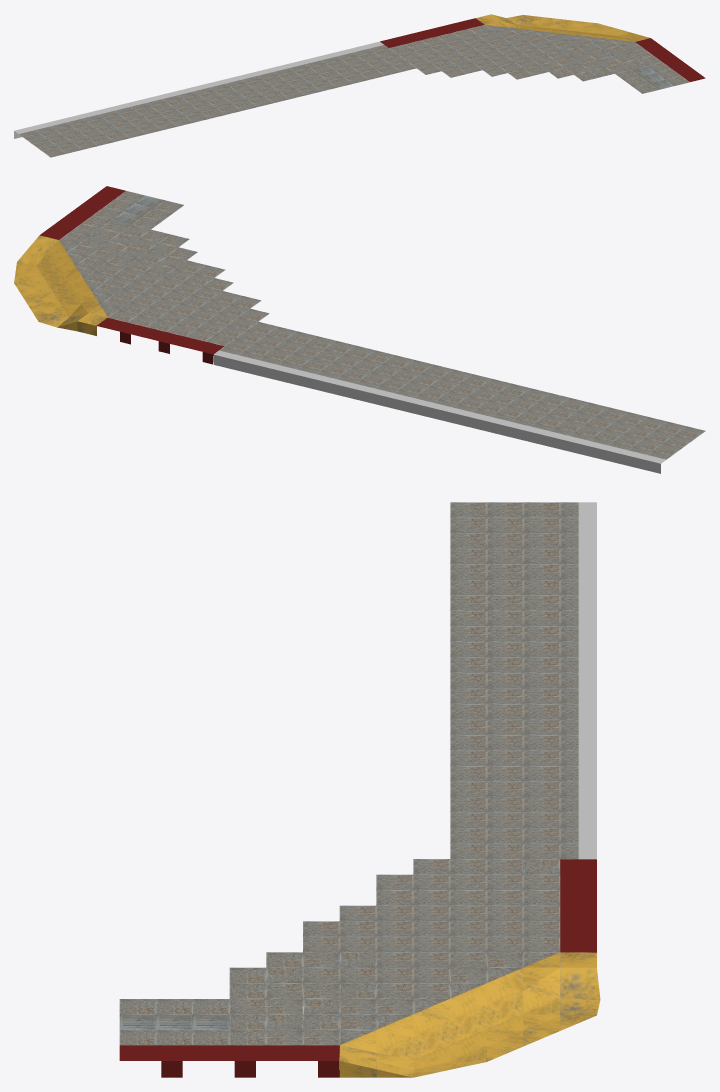
File: SideWalker_Plaza_MarceloTAlberar_esqAchaval.fbx
3 renders of one model, top to bottom at view 1: azimuth 30°, elevation 25°; view 2: azimuth 150°, elevation 25°; view 3: azimuth 270°, elevation 25°, orthographic. The views are drawn at different scales.
Visible parts, largest first — view 1: Cordon_SideWalker_paseoArtes.008; view 2: Cordon_SideWalker_paseoArtes.008; view 3: Cordon_SideWalker_paseoArtes.008.
Boxes of the visible parts, box(x1,y1,x2,y2) form: Cordon_SideWalker_paseoArtes.008: box(14, 14, 705, 157); Cordon_SideWalker_paseoArtes.008: box(14, 186, 705, 473); Cordon_SideWalker_paseoArtes.008: box(119, 502, 600, 1077).
Bounding box in the file's own units: 36 × 0.5065 × 13.09.
